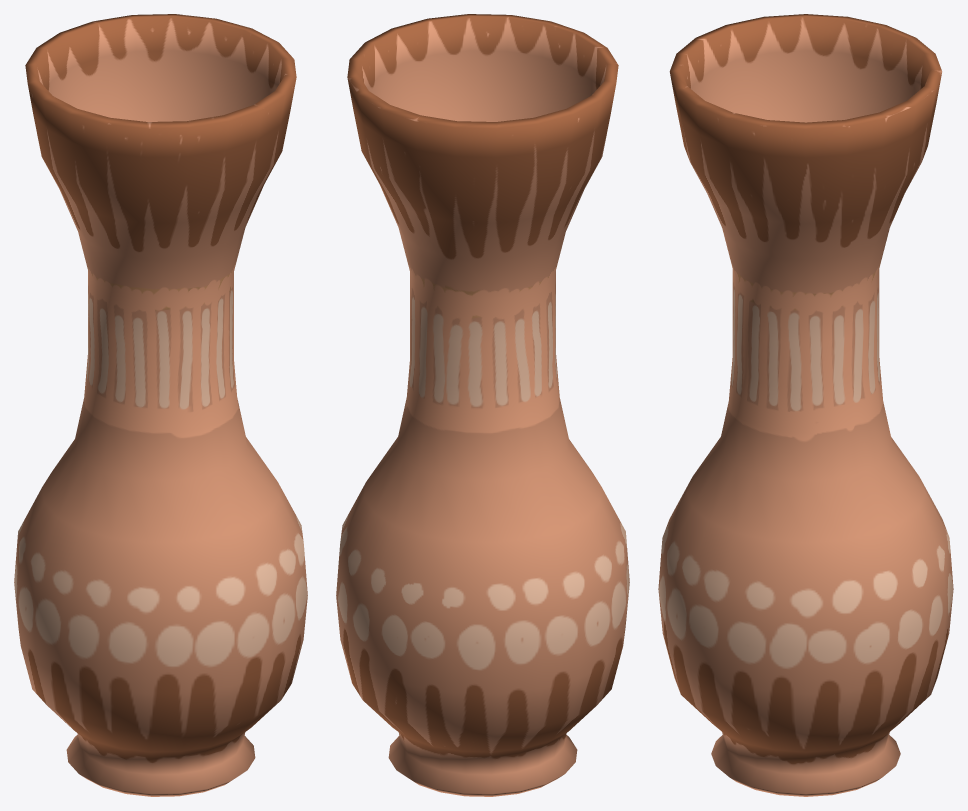
File: Pot_2.fbx
3 views of the same model, side by side, from view 1: azimuth 30°, elevation 25°; view 2: azimuth 150°, elevation 25°; view 3: azimuth 270°, elevation 25° (orthographic).
Parts seen in each view (by area): view 1: pot_2; view 2: pot_2; view 3: pot_2.
Boxes of the visible parts, x1,y1,x2,y2 form: pot_2: (14,14,307,796); pot_2: (336,14,629,796); pot_2: (658,14,953,796).
Size of the model in its own units: 75.66 by 195 by 75.66.
